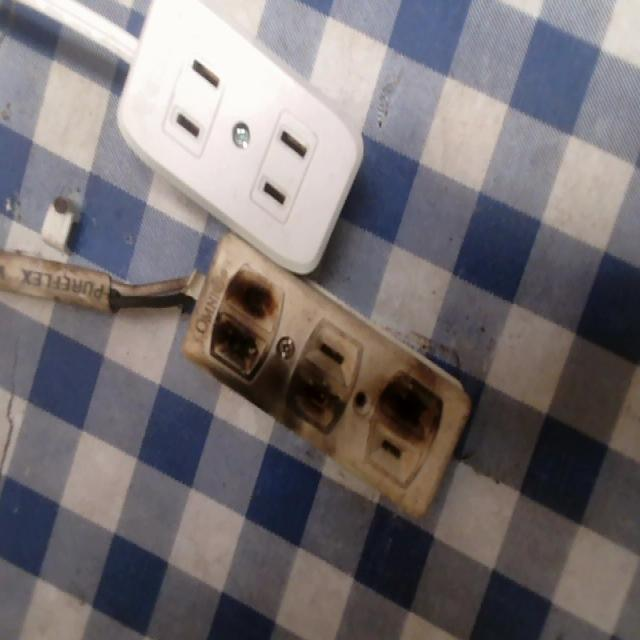-: (210, 262, 284, 382), (379, 363, 460, 453), (279, 367, 346, 445)
